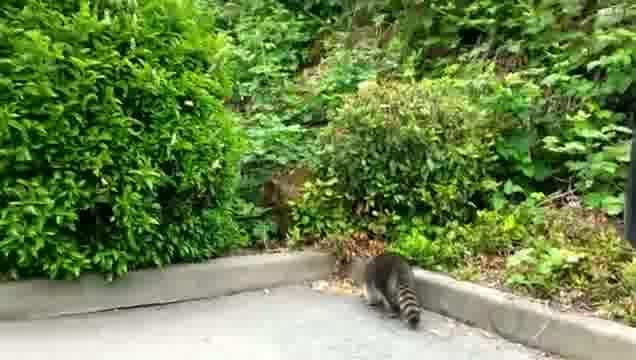raccoon: (362, 250, 424, 334)
